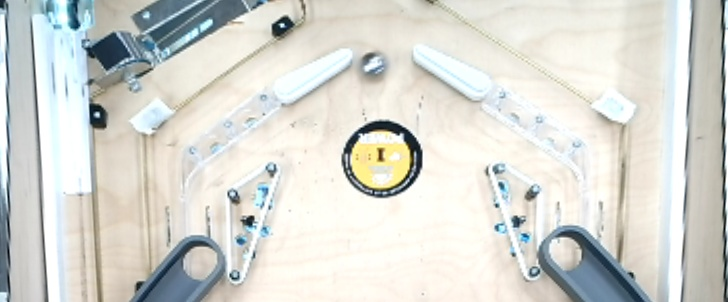ball: (355, 51, 392, 85)
flipper-left: (409, 36, 497, 109)
flipper-right: (268, 41, 355, 109)
